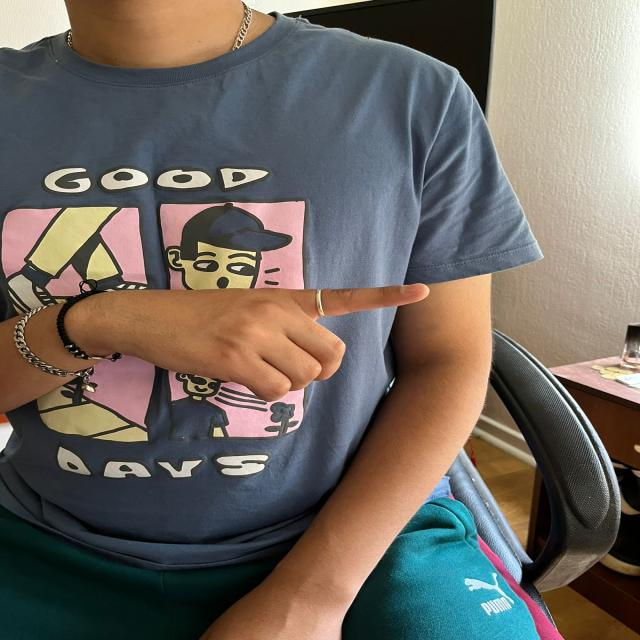S: (80, 277, 432, 402)
